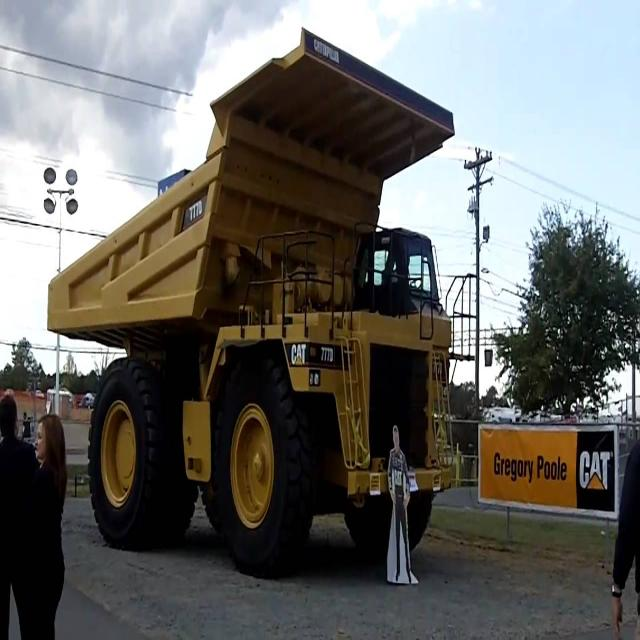dump_truck: (37, 28, 465, 590)
